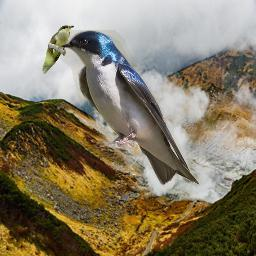Cuckoo: (41, 25, 74, 74)
Swallow: (60, 30, 202, 187)
